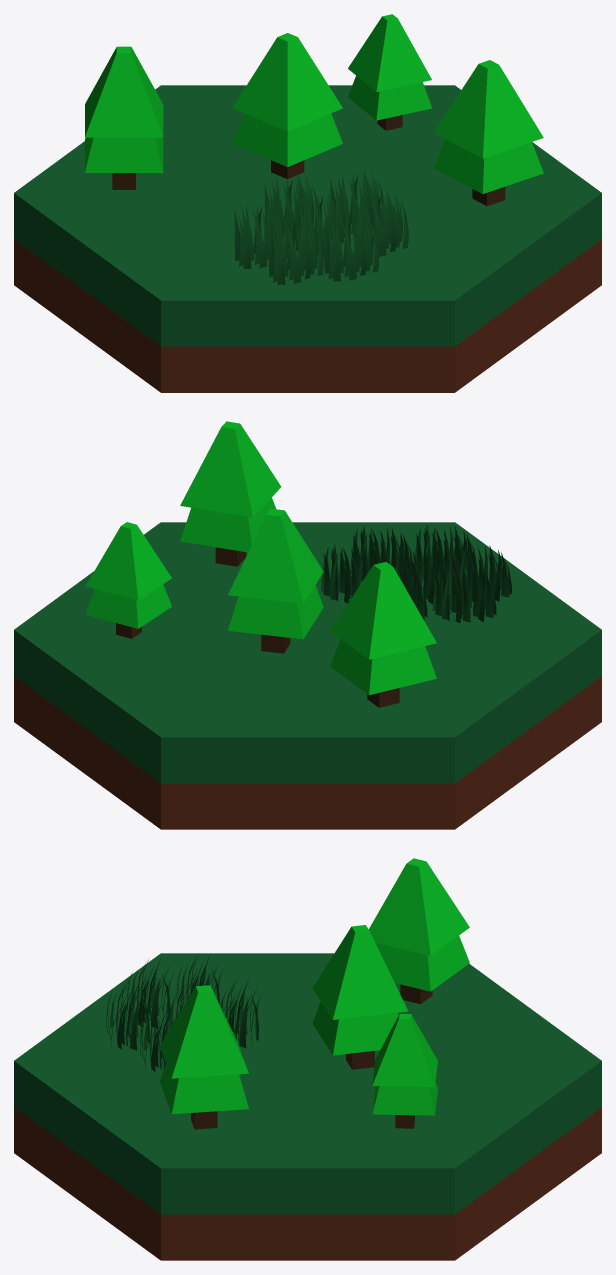
Rendered from SM_GrassTrees.FBX.
3 views of the same model, one above another, from view 1: azimuth 30°, elevation 25°; view 2: azimuth 150°, elevation 25°; view 3: azimuth 270°, elevation 25° (orthographic).
Visible parts, largest first — view 1: SM_GrassTrees; view 2: SM_GrassTrees; view 3: SM_GrassTrees.
Boxes of the visible parts, left/top/right/bottom form: SM_GrassTrees: left=14, top=14, right=601, bottom=392; SM_GrassTrees: left=14, top=421, right=601, bottom=829; SM_GrassTrees: left=14, top=858, right=601, bottom=1260.
Size of the model in its own units: 100 by 115 by 49.26.
